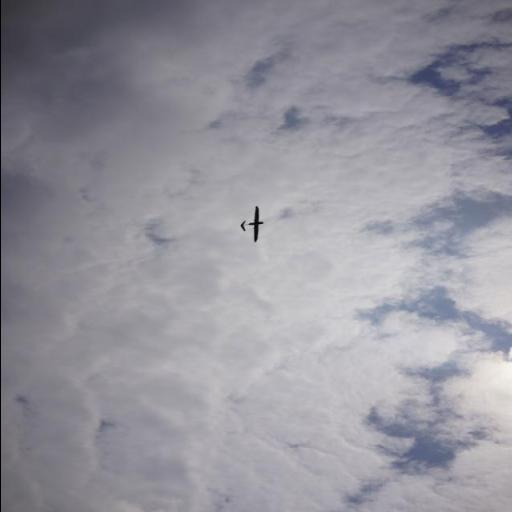uav: (236, 202, 268, 244)
